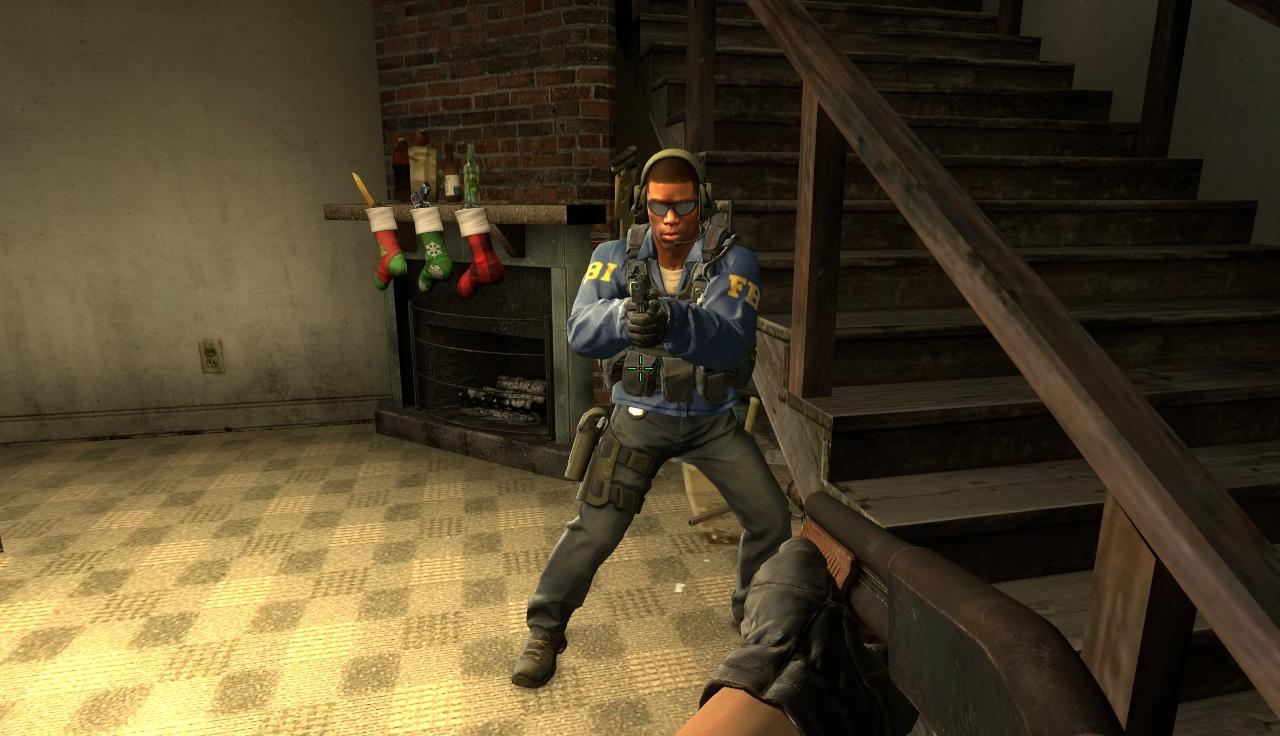ct: (580, 144, 765, 572)
cthead: (644, 150, 707, 251)
shotgun: (788, 478, 1125, 736)
